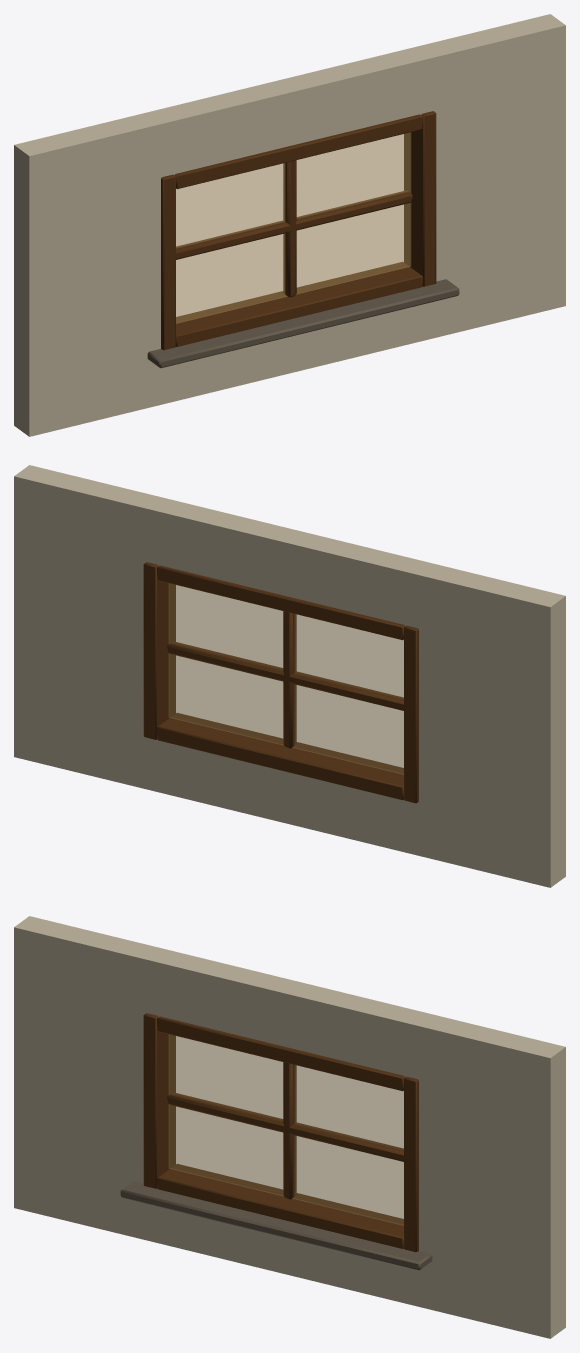
Rendered from wand_fenster_2x1.glb.
3 views of the same model, one above another, from view 1: azimuth 30°, elevation 25°; view 2: azimuth 150°, elevation 25°; view 3: azimuth 330°, elevation 25° (orthographic).
Visible parts, largest first — view 1: wand_fenster_2x1; view 2: wand_fenster_2x1; view 3: wand_fenster_2x1.
Boxes of the visible parts, x1,y1,x2,y2 form: wand_fenster_2x1: [14, 14, 565, 436]; wand_fenster_2x1: [14, 465, 565, 887]; wand_fenster_2x1: [14, 916, 565, 1338].
Size of the model in its own units: 2 by 1 by 0.195.
